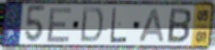5: (23, 4, 48, 45)
A: (137, 8, 165, 44)
B: (165, 7, 193, 45)
D: (79, 6, 105, 44)
E: (45, 6, 74, 44)
L: (110, 6, 128, 45)
